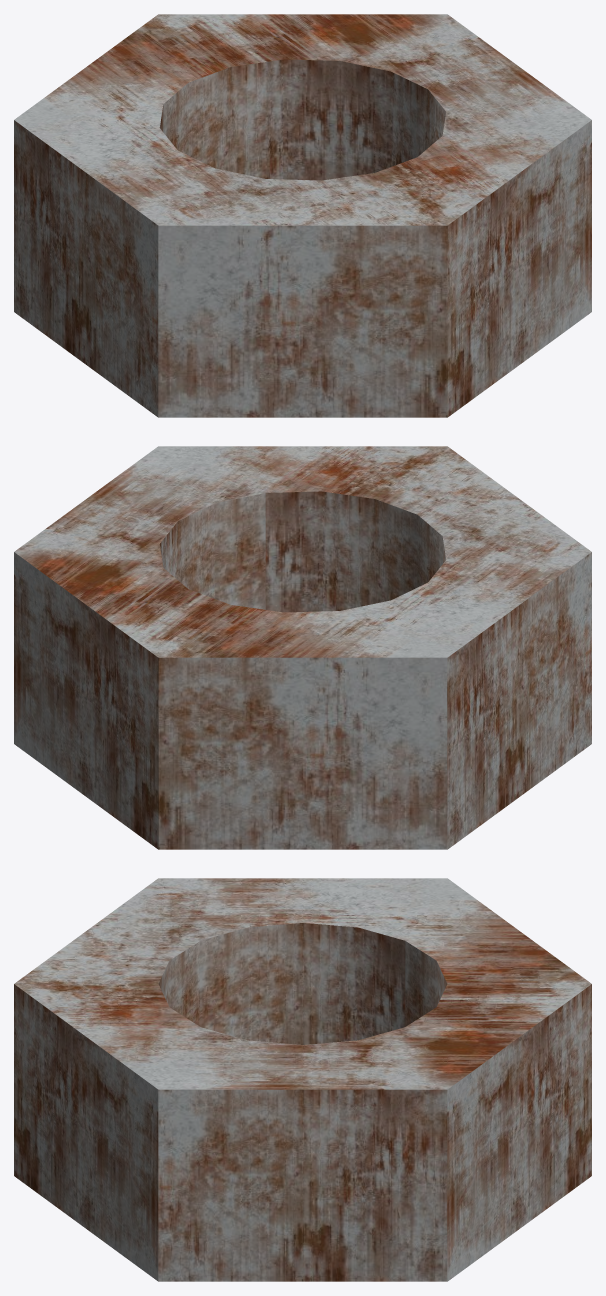
The model's file is nut_3.glb.
3 views of the same model, one above another, from view 1: azimuth 30°, elevation 25°; view 2: azimuth 150°, elevation 25°; view 3: azimuth 270°, elevation 25° (orthographic).
Visible parts, largest first — view 1: nut_3; view 2: nut_3; view 3: nut_3.
Part boxes in pixels (bbox=[...]): nut_3: bbox=[14, 14, 591, 417]; nut_3: bbox=[14, 446, 591, 849]; nut_3: bbox=[14, 878, 591, 1281].
Bounding box in the file's own units: 0.052 × 0.022 × 0.06.
Materials: 1 (1 with a texture image).
